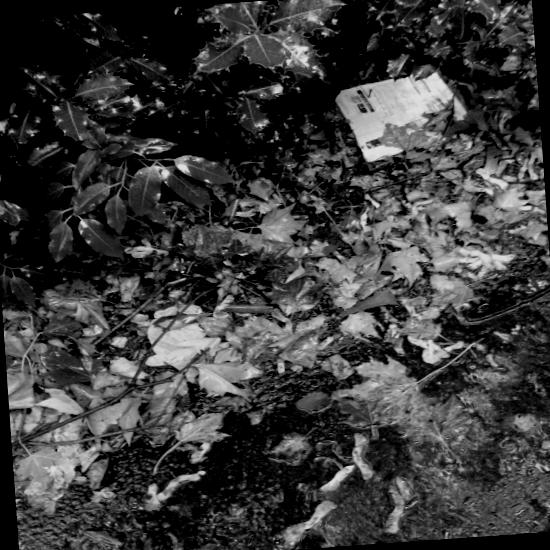Normal paper: (334, 70, 467, 163)
Plastic glooves: (145, 304, 221, 381)
